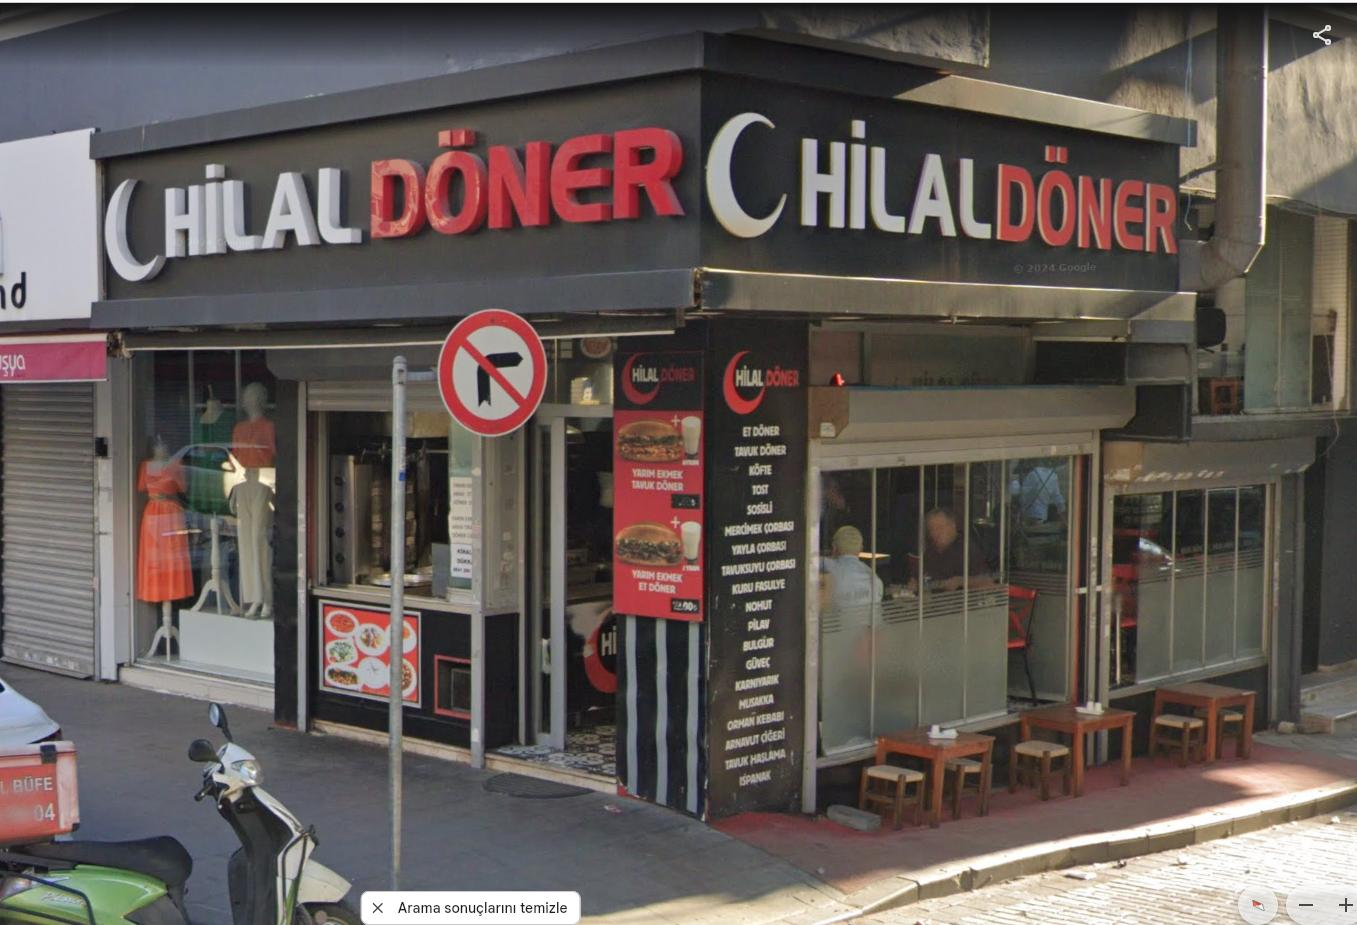rightturnsareforbidden: (438, 315, 552, 429)
